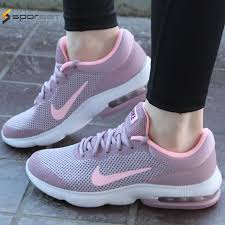nike: (45, 79, 90, 126), (91, 165, 152, 186)
